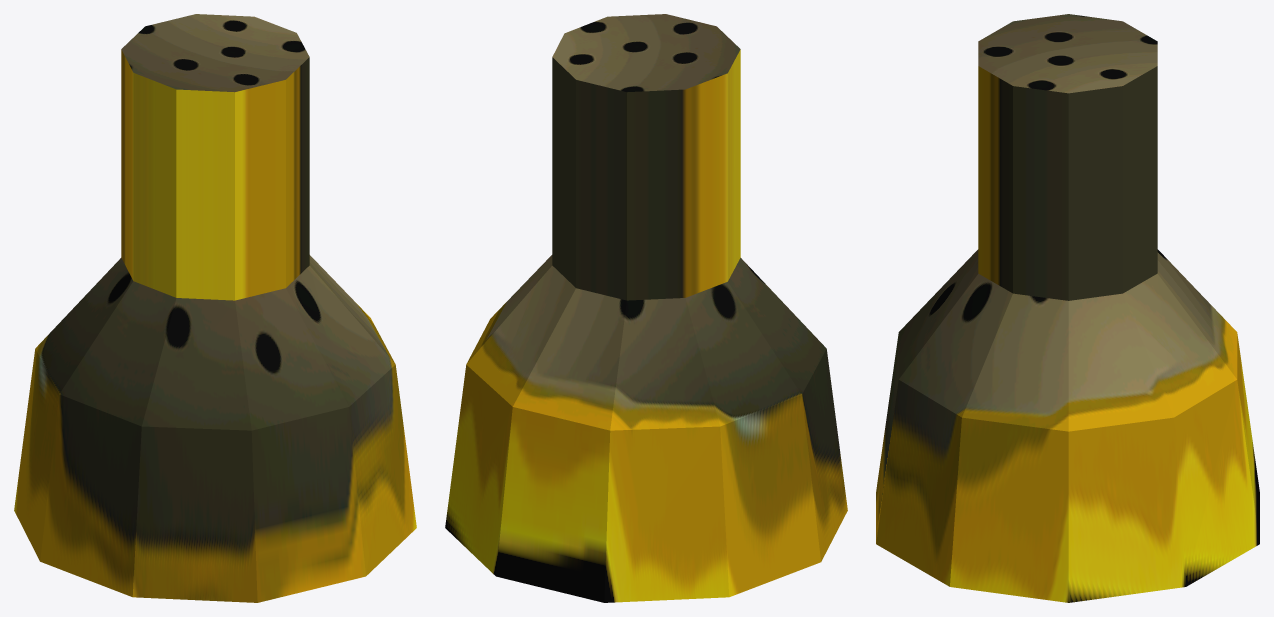
The model's file is SHead.glb.
3 views of the same model, side by side, from view 1: azimuth 30°, elevation 25°; view 2: azimuth 150°, elevation 25°; view 3: azimuth 270°, elevation 25° (orthographic).
Visible parts, largest first — view 1: SHead; view 2: SHead; view 3: SHead.
Boxes of the visible parts, <box> form: SHead: <box>14,14,416,602</box>; SHead: <box>445,14,847,602</box>; SHead: <box>876,14,1259,602</box>.
Bounding box in the file's own units: 96.22 × 122 × 91.7.
Materials: 1 (1 with a texture image).
